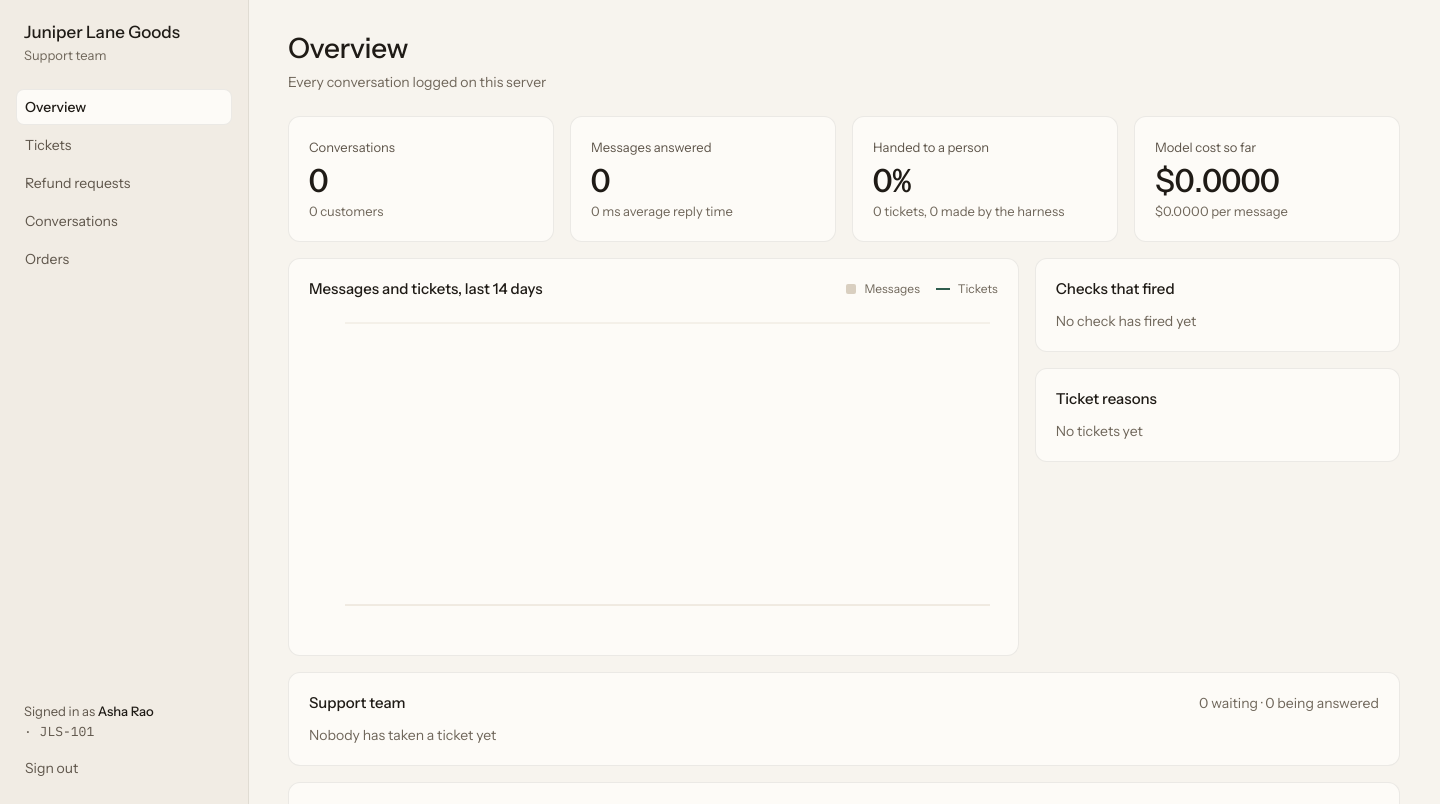
Test case: getting from a request to its ticket › opens the ticket from the request, where the customer can be answered
expect the heading "Overview" is shown: met, box [288,31,408,65]
Click the button "Refund requests" at [124, 183], box [16,165,232,201]
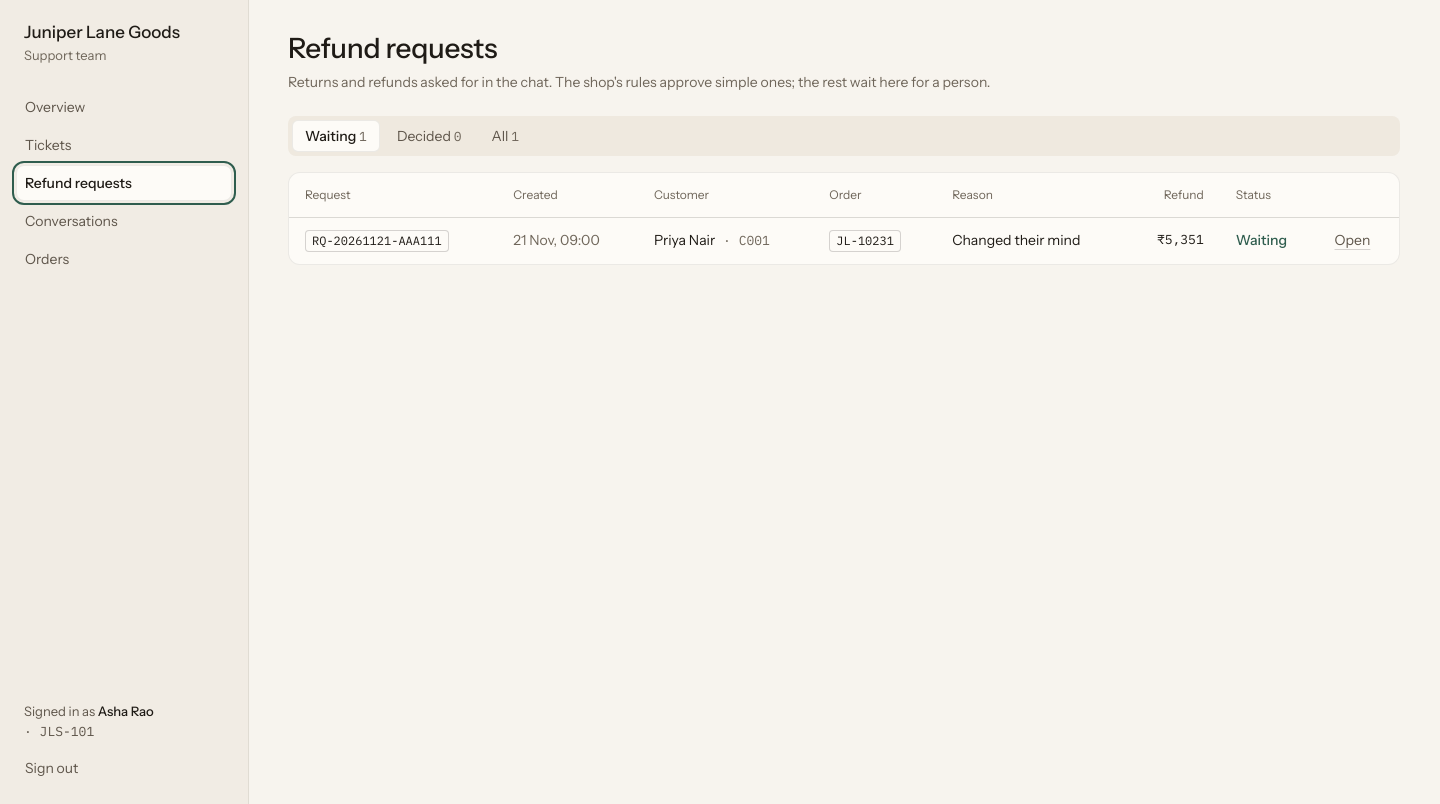
Click the button "Open" at [1352, 240], box [1334,230,1370,250]
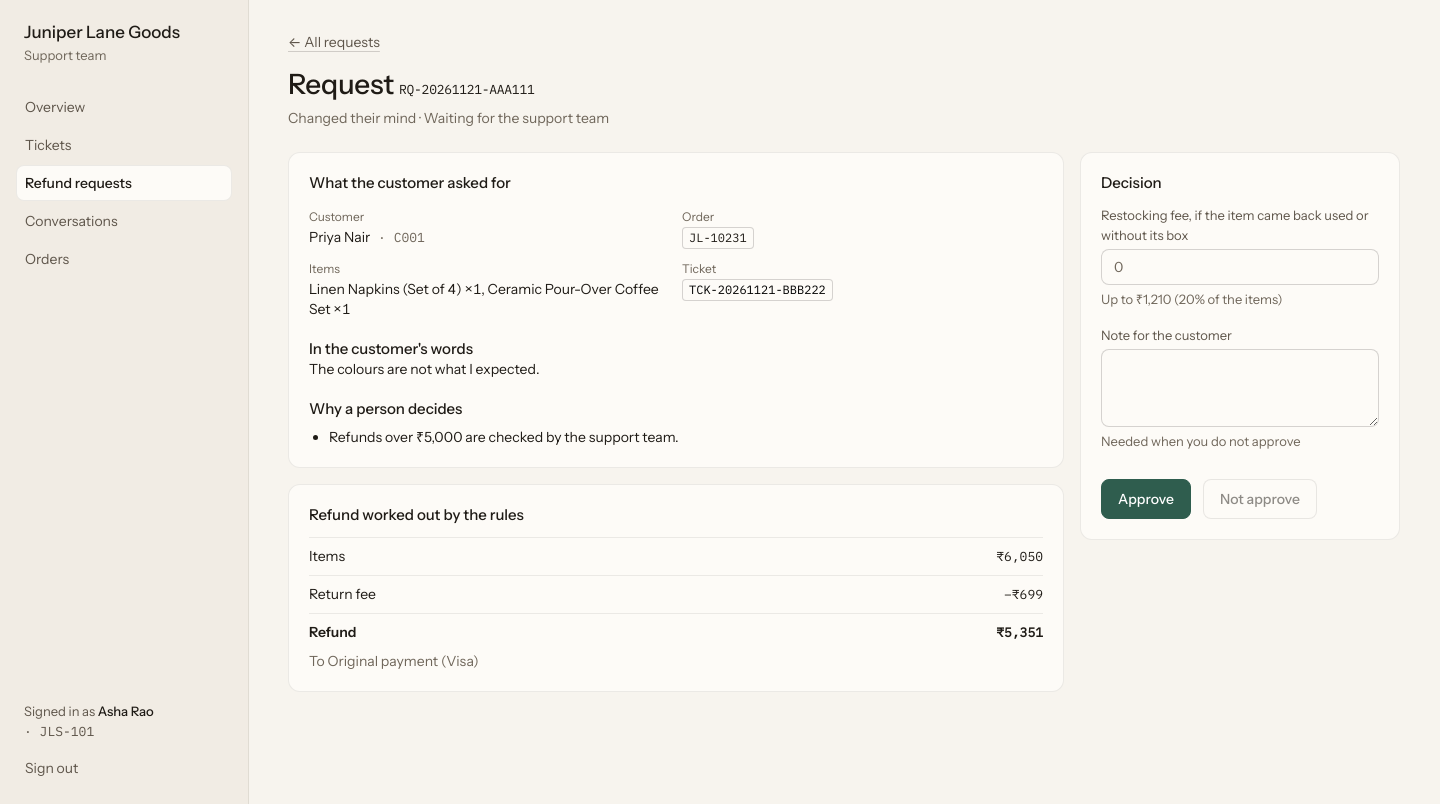
Click the button with aria-label "Open ticket TCK-20261121-BBB222" at [757, 290], box [682,279,833,301]
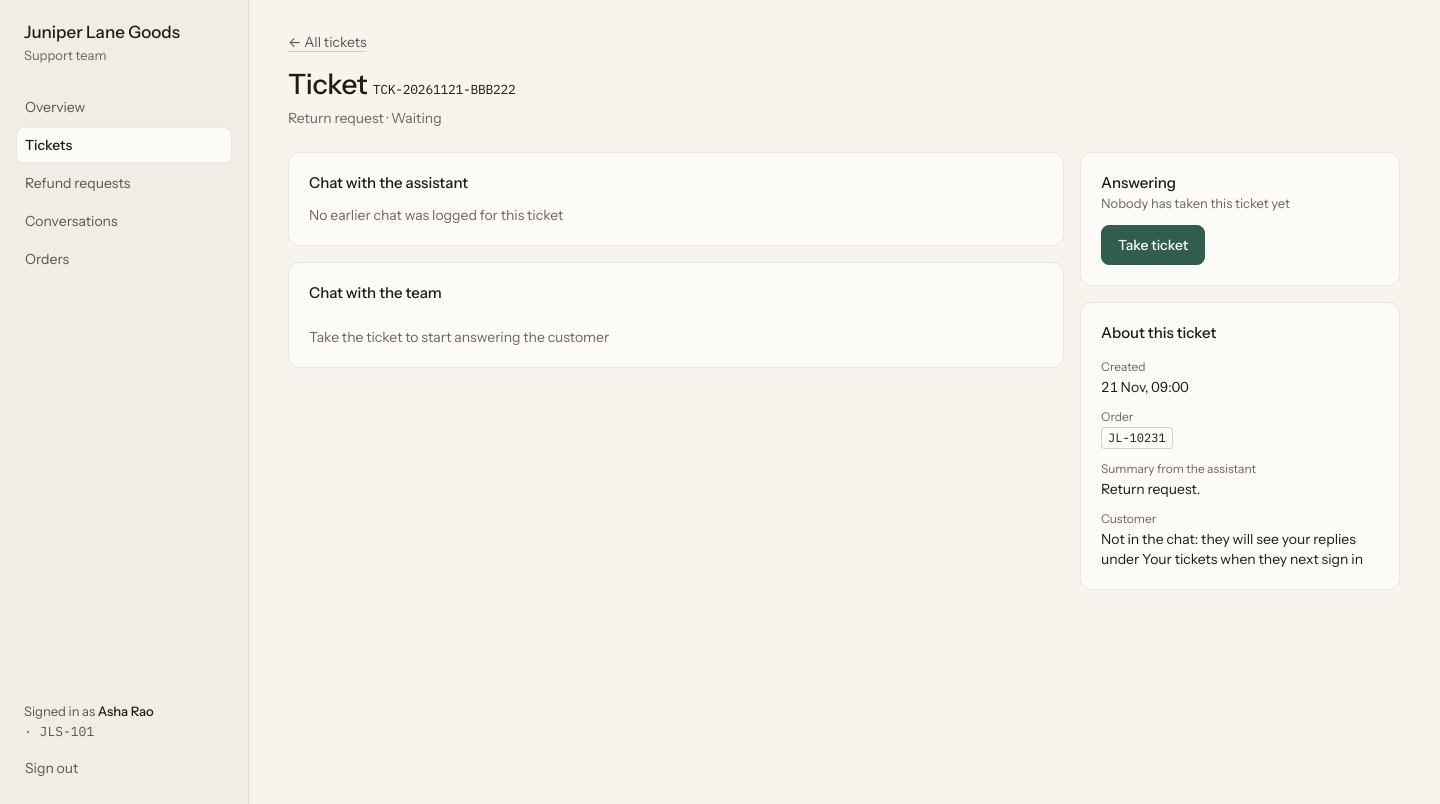
expect the button "Take ticket" is shown: met, box [1101,225,1205,265]
